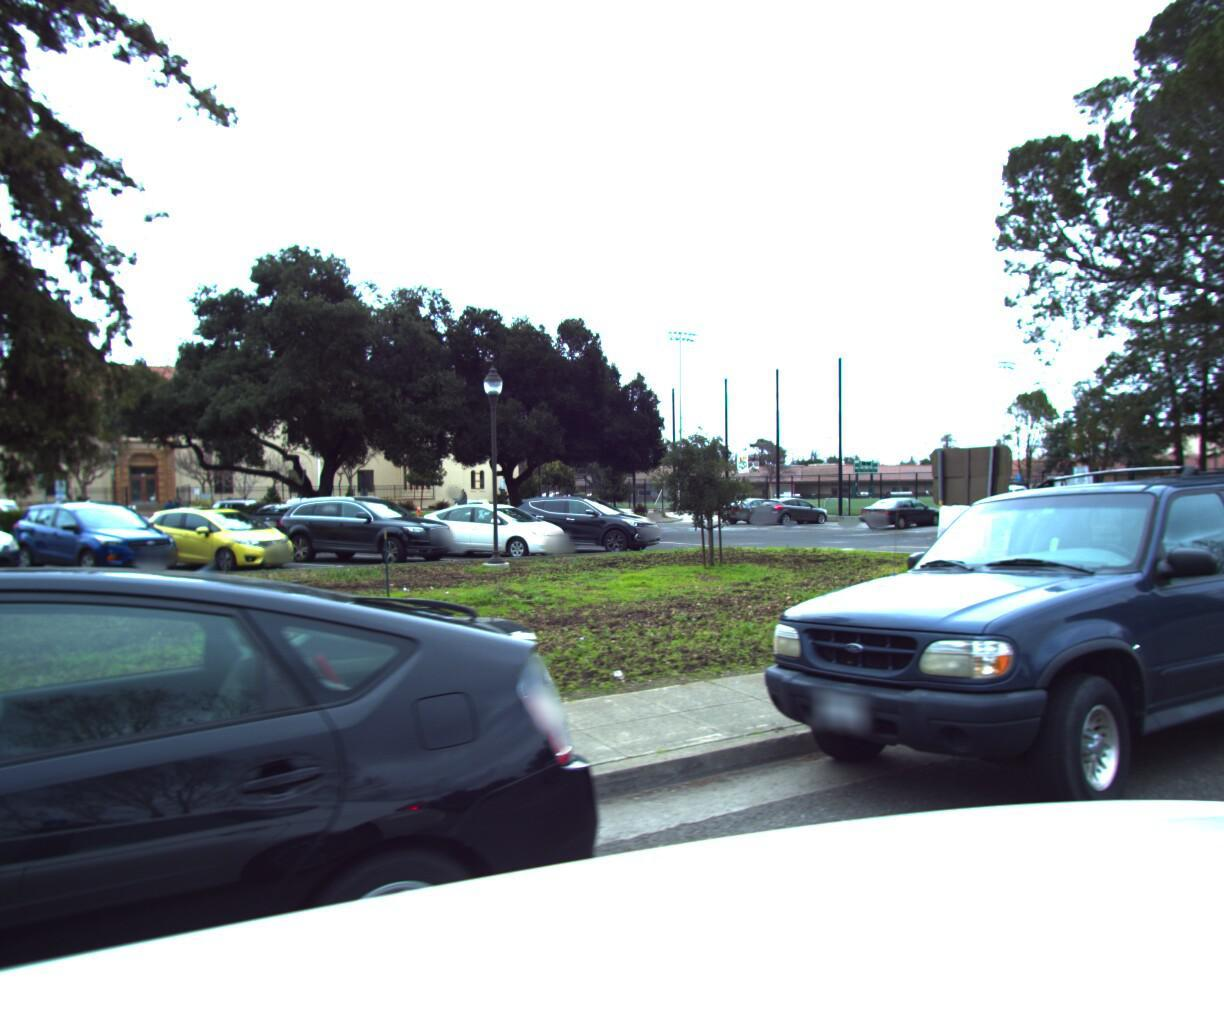car: (0, 534, 653, 1024), (722, 457, 1224, 877)
